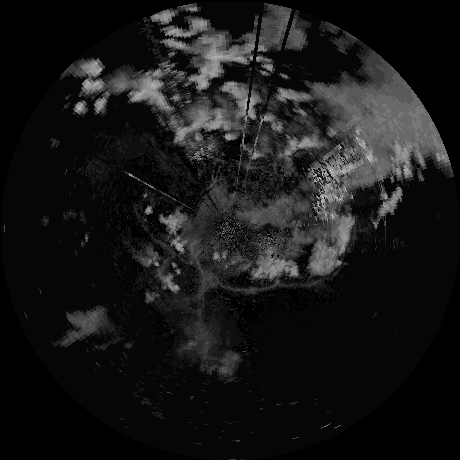frontgust: (135, 195, 186, 263), (199, 264, 278, 295), (277, 273, 336, 288)
